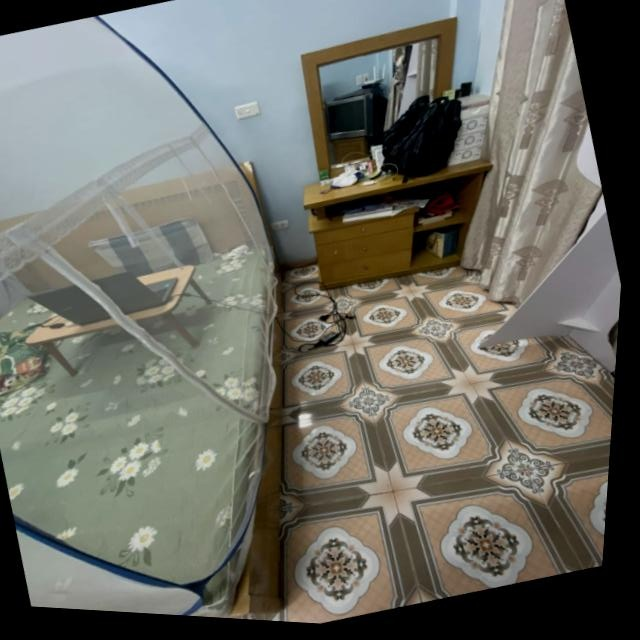outlet: (271, 217, 292, 231)
